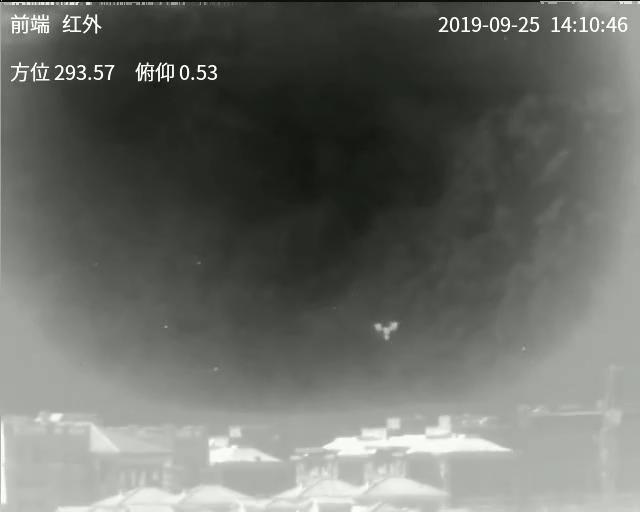uav: (373, 318, 398, 341)
